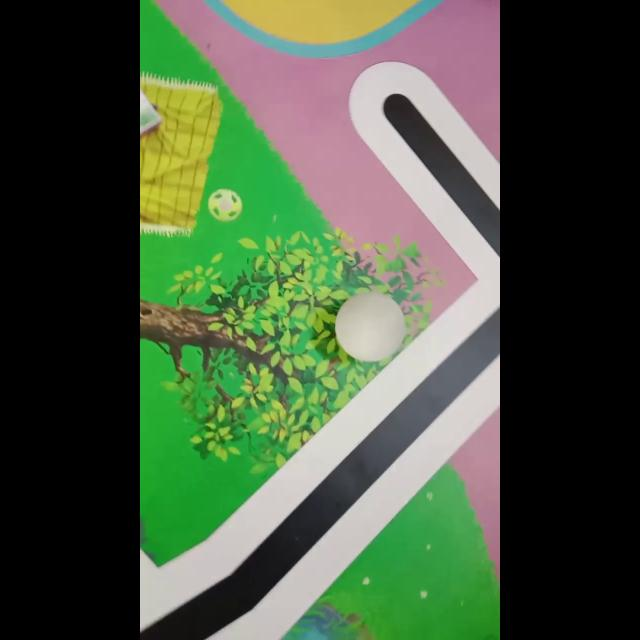white ball: (334, 290, 406, 362)
